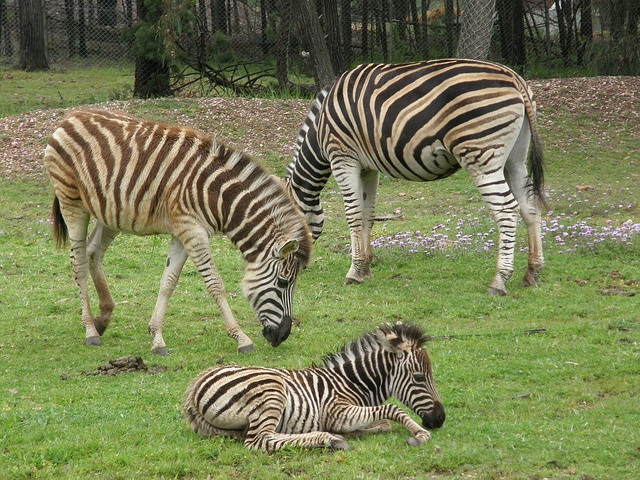zebra: (178, 231, 449, 479), (417, 177, 640, 414), (314, 389, 578, 480)
